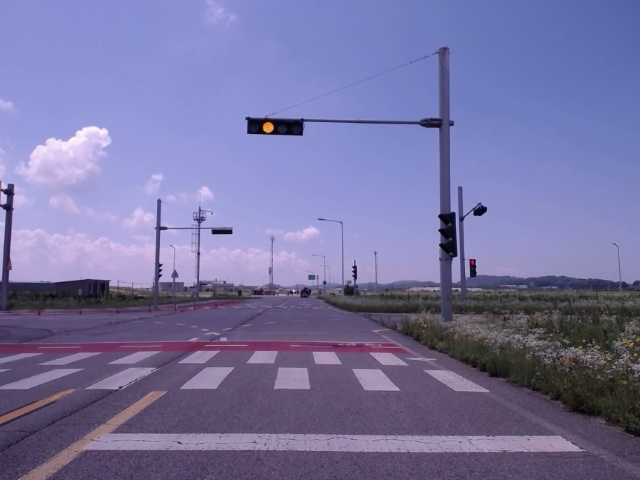orange_4: (250, 117, 302, 136)
